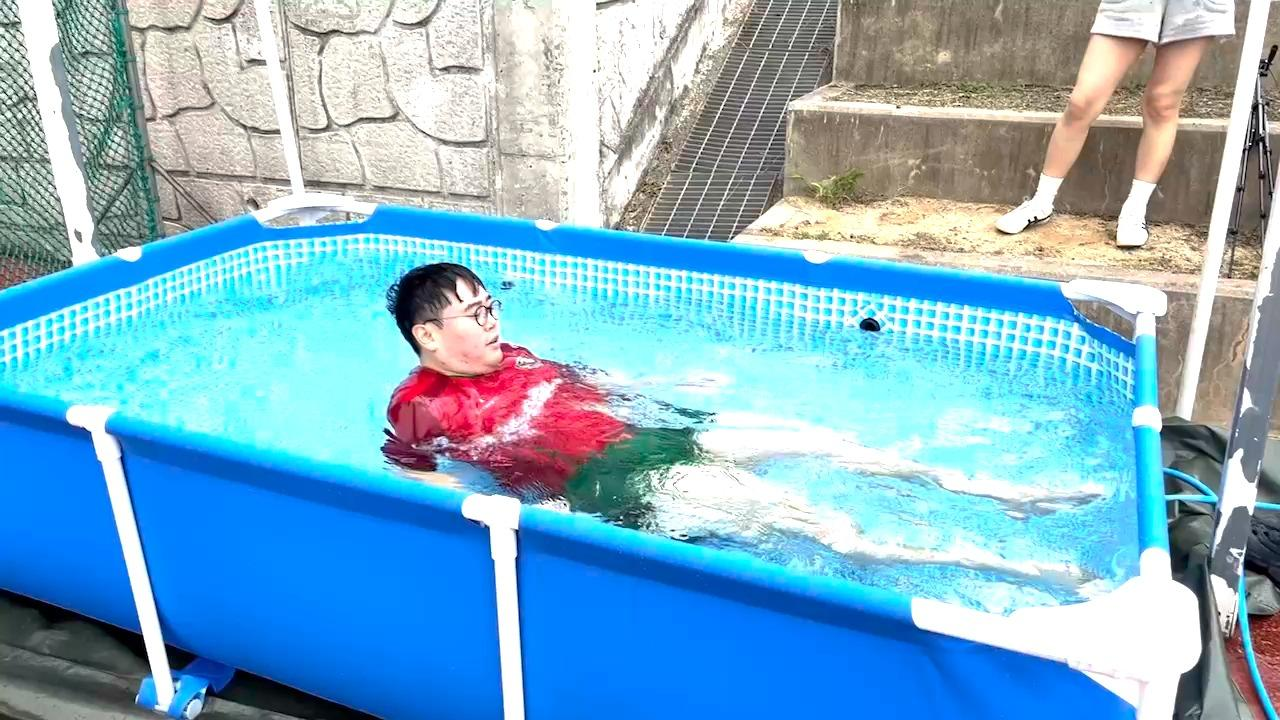Swimming: (286, 189, 1114, 610)
